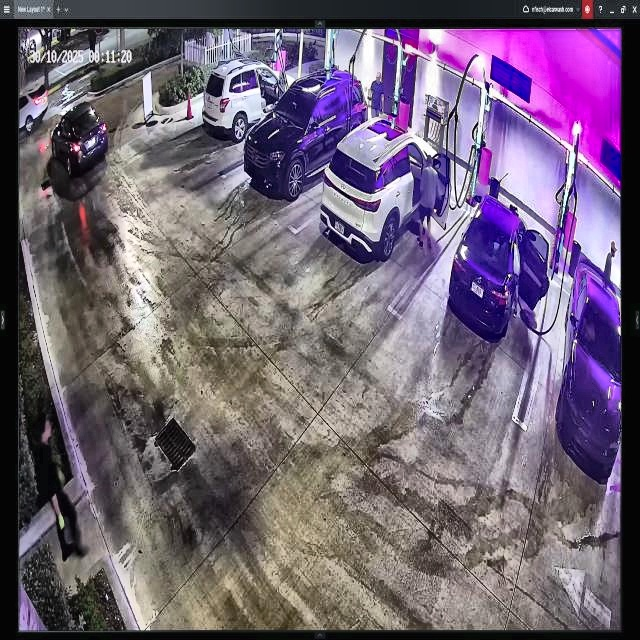Car: (321, 118, 447, 262), (245, 73, 368, 196), (448, 196, 548, 331)
